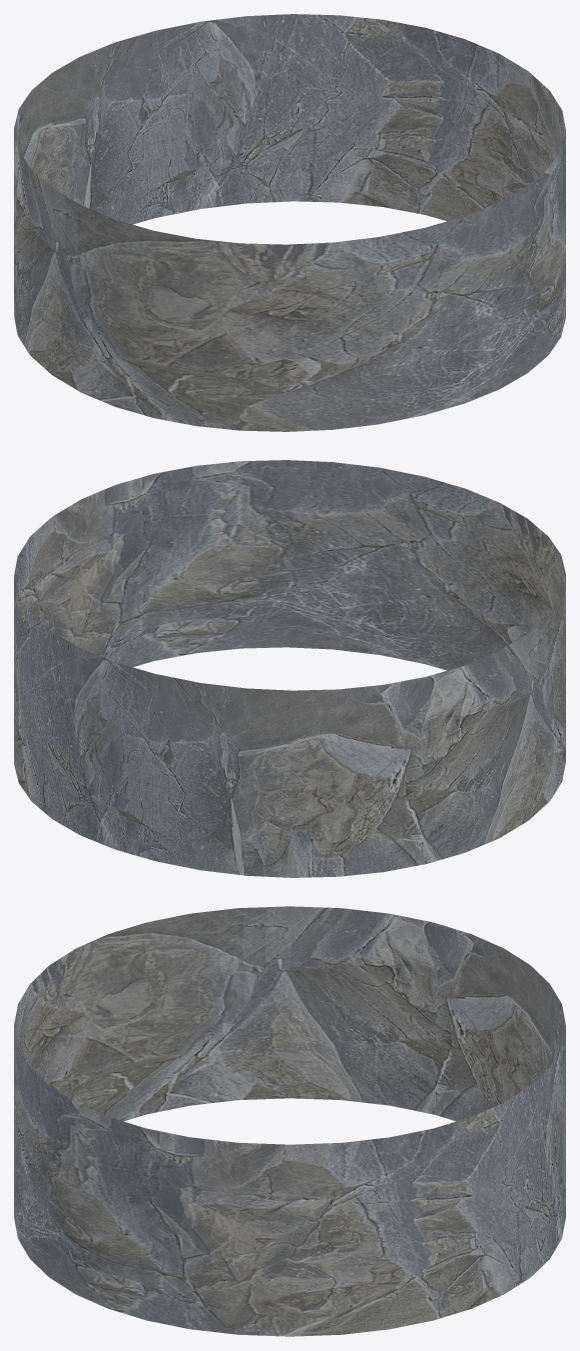
Rendered from tunnel_H3_2.glb.
3 views of the same model, one above another, from view 1: azimuth 30°, elevation 25°; view 2: azimuth 150°, elevation 25°; view 3: azimuth 270°, elevation 25° (orthographic). The views are drawn at different scales.
Visible parts, largest first — view 1: XSBYSZK_03; view 2: XSBYSZK_03; view 3: XSBYSZK_03.
Part boxes in pixels (x1=…): XSBYSZK_03: x1=14, y1=14, x2=565, y2=431; XSBYSZK_03: x1=14, y1=460, x2=565, y2=877; XSBYSZK_03: x1=14, y1=906, x2=565, y2=1336.
Size of the model in its own units: 8.79 by 3.3 by 8.6.
1 material, 1 textured.
